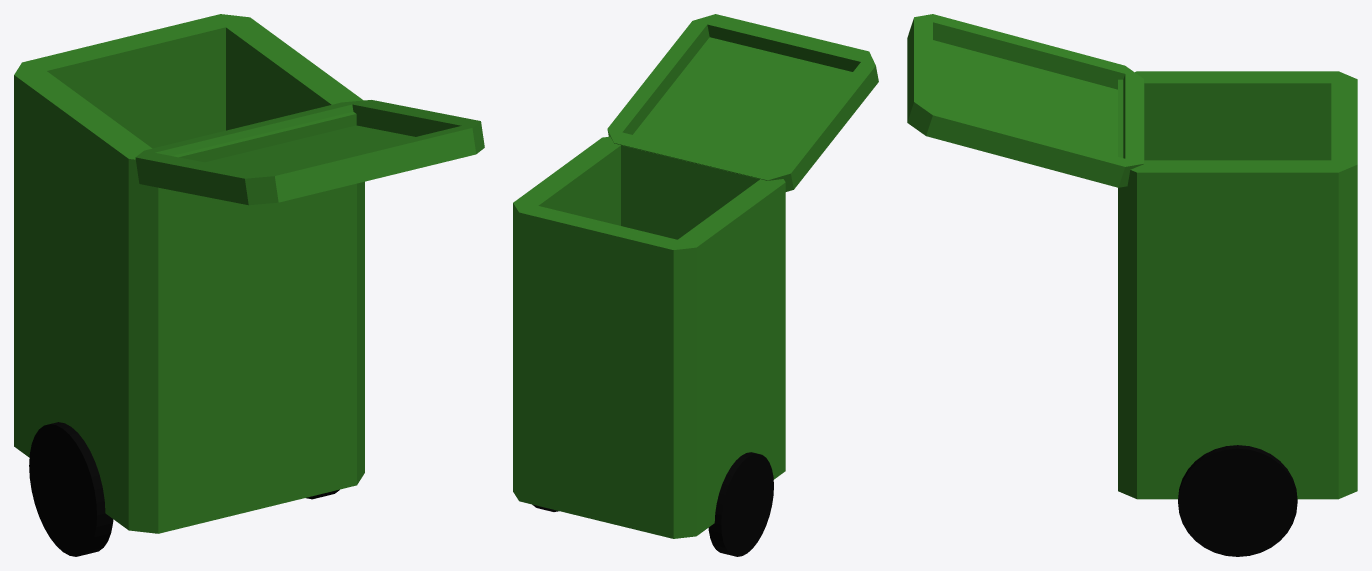
The model's file is trashbox.fbx.
3 views of the same model, side by side, from view 1: azimuth 30°, elevation 25°; view 2: azimuth 150°, elevation 25°; view 3: azimuth 270°, elevation 25° (orthographic). The views are drawn at different scales.
Parts seen in each view (by area): view 1: Cube; view 2: Cube; view 3: Cube.
Boxes of the visible parts, x1,y1,x2,y2 form: Cube: (14,14,484,556); Cube: (513,14,878,556); Cube: (907,14,1357,556).
Bounding box in the file's own units: 214 × 408 × 376.
